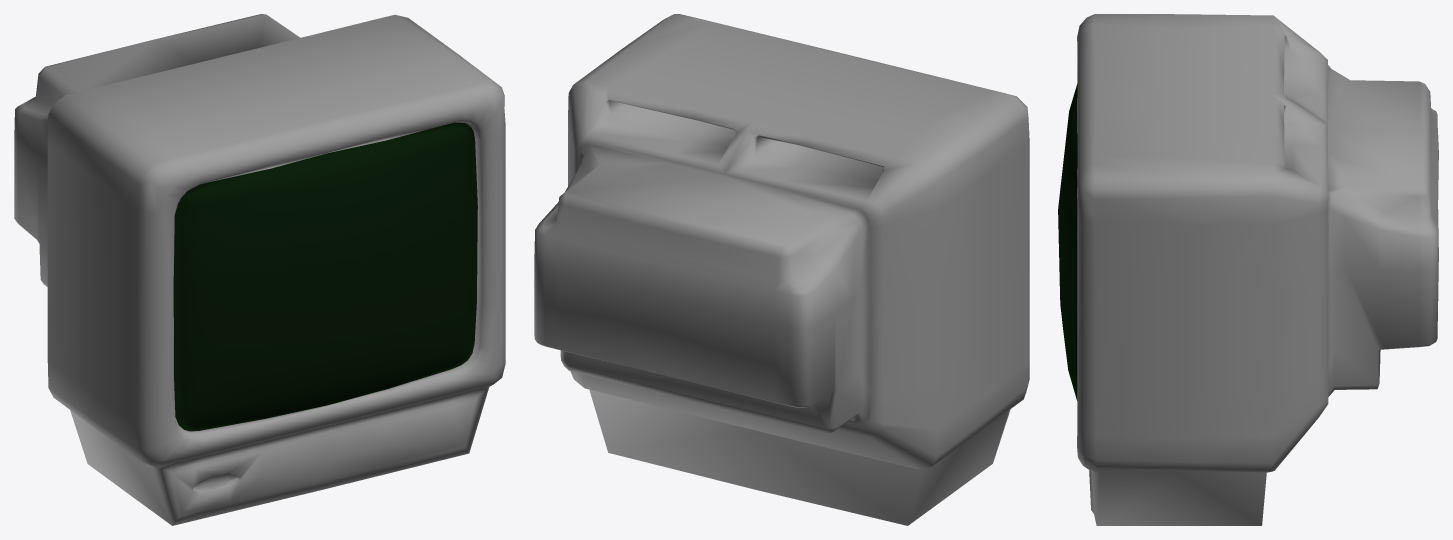
The picture shows the model from 3 angles, left to right: view 1: azimuth 30°, elevation 25°; view 2: azimuth 150°, elevation 25°; view 3: azimuth 270°, elevation 25°; orthographic projection. The views are drawn at different scales.
Parts seen in each view (by area): view 1: tv; view 2: tv; view 3: tv.
Boxes of the visible parts, x1,y1,x2,y2 form: tv: [14, 14, 505, 525]; tv: [534, 14, 1029, 525]; tv: [1058, 14, 1438, 525].
Bounding box in the file's own units: 9.44 × 9.12 × 8.69.
